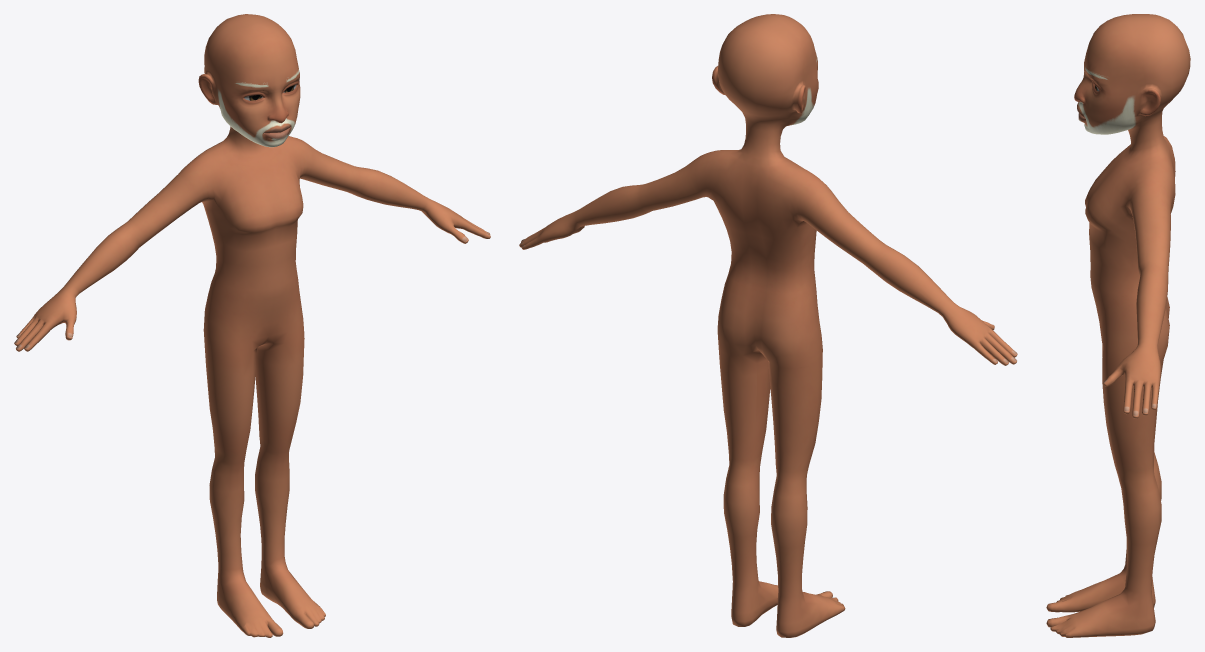
Rendered from frame_0065.glb.
The picture shows the model from 3 angles, left to right: view 1: azimuth 30°, elevation 25°; view 2: azimuth 150°, elevation 25°; view 3: azimuth 270°, elevation 25°; orthographic projection. The views are drawn at different scales.
Visible parts, largest first — view 1: frame_0065_head_geo; view 2: frame_0065_head_geo; view 3: frame_0065_head_geo.
Part boxes in pixels (x1,y1,x2,y2): frame_0065_head_geo: (14, 14, 490, 637); frame_0065_head_geo: (519, 14, 1017, 637); frame_0065_head_geo: (1046, 14, 1190, 637).
Size of the model in its own units: 1.28 by 1.5 by 0.3253.
3 materials, 3 textured.
